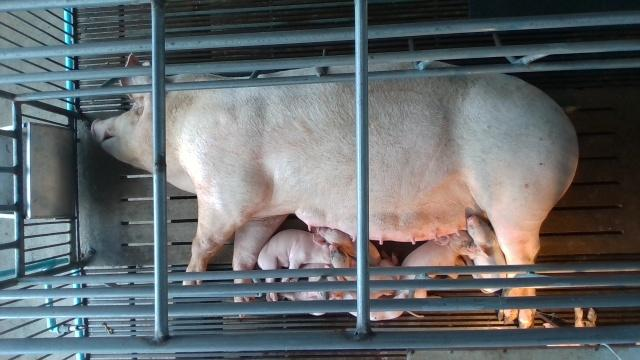piglet: (402, 231, 476, 316), (258, 228, 332, 298), (327, 245, 401, 296), (465, 212, 505, 294), (315, 228, 381, 265), (542, 308, 598, 346)
sow-sleep-lactate: (92, 53, 578, 329)
